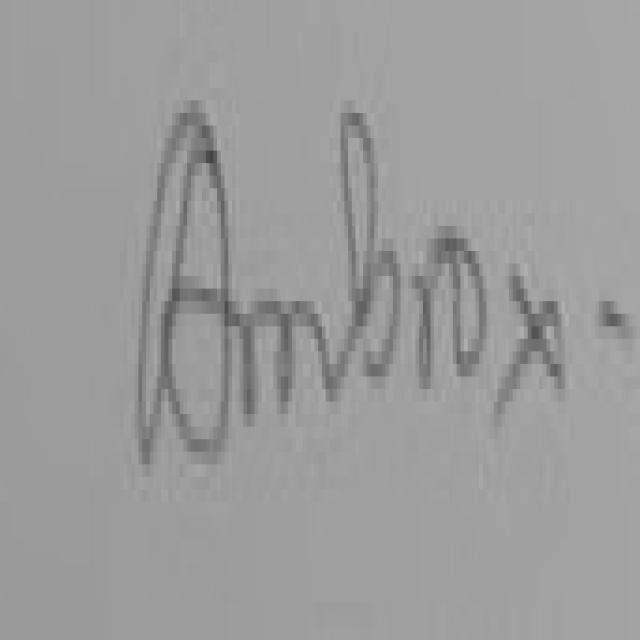A: (138, 100, 228, 458)
b: (344, 113, 400, 370)
m: (228, 301, 359, 427)
o: (457, 251, 487, 376)
r: (415, 251, 447, 383)
x: (498, 276, 565, 408)
